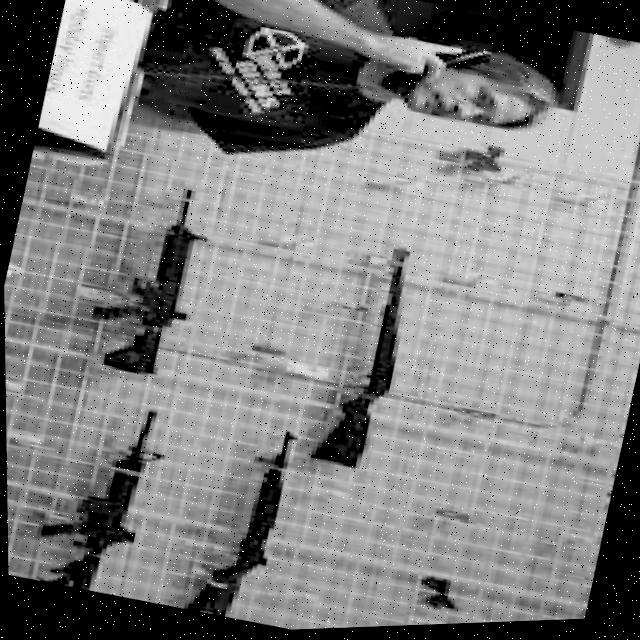firearm: (23, 386, 179, 604), (74, 172, 221, 385), (301, 237, 423, 480), (179, 415, 303, 627)
